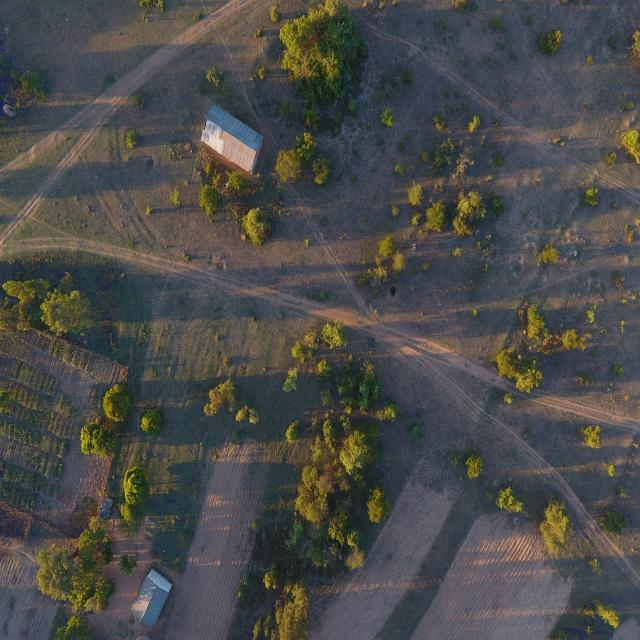boundaries: (396, 517, 475, 622)
